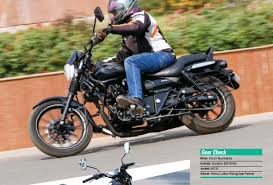helmet: (103, 1, 145, 28)
